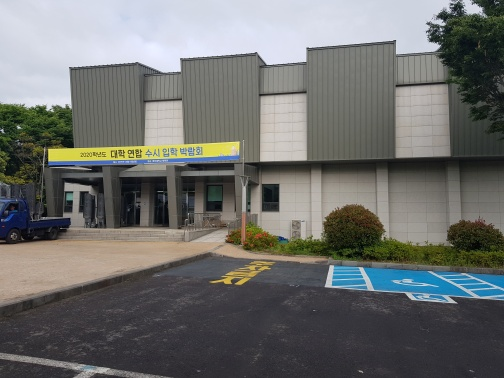Gym: (42, 29, 499, 256), (62, 37, 415, 161), (38, 168, 273, 217)
